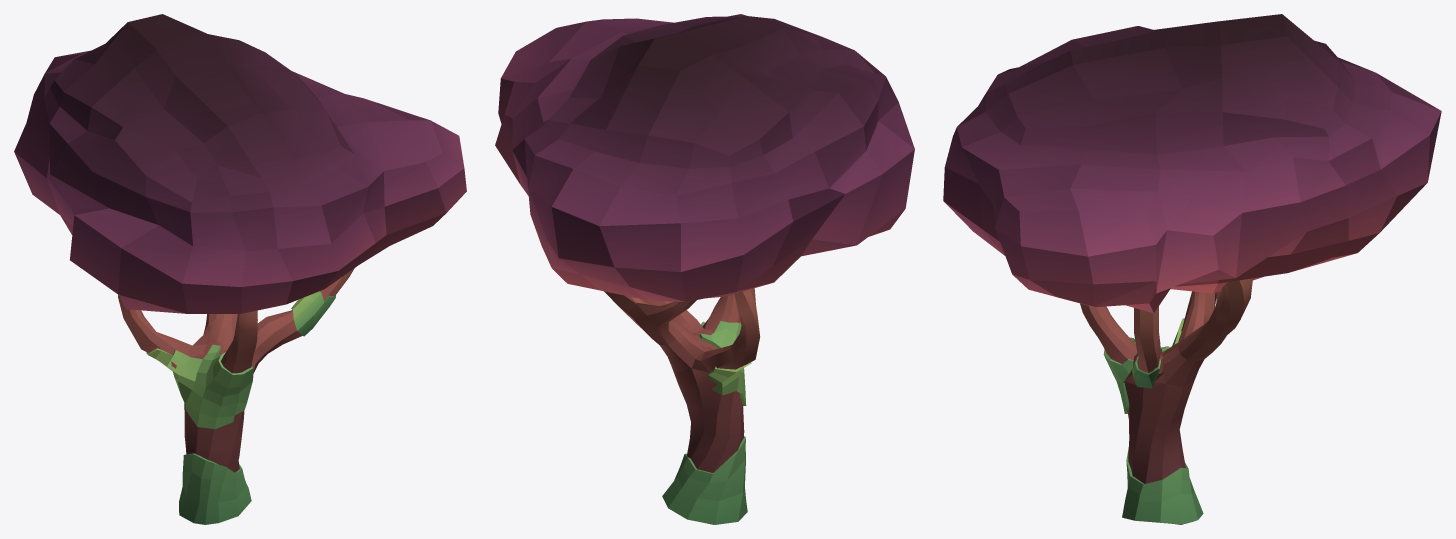
Rendered from Level2_BigTree_Pink.fbx.
The picture shows the model from 3 angles, left to right: view 1: azimuth 30°, elevation 25°; view 2: azimuth 150°, elevation 25°; view 3: azimuth 270°, elevation 25°; orthographic projection. The views are drawn at different scales.
Parts seen in each view (by area): view 1: Treetop_LowPoly, Moss_LowPoly, Tree1; view 2: Treetop_LowPoly, Tree1, Moss_LowPoly; view 3: Treetop_LowPoly, Tree1, Moss_LowPoly.
Boxes of the visible parts, x1,y1,x2,y2 form: Treetop_LowPoly: [14, 14, 466, 313]; Moss_LowPoly: [146, 291, 335, 524]; Tree1: [118, 268, 354, 472]; Treetop_LowPoly: [495, 14, 914, 301]; Tree1: [604, 288, 760, 524]; Moss_LowPoly: [662, 321, 751, 524]; Treetop_LowPoly: [943, 14, 1441, 313]; Tree1: [1080, 278, 1252, 524]; Moss_LowPoly: [1103, 318, 1203, 524].
Size of the model in its own units: 17.55 by 19.4 by 21.09.
